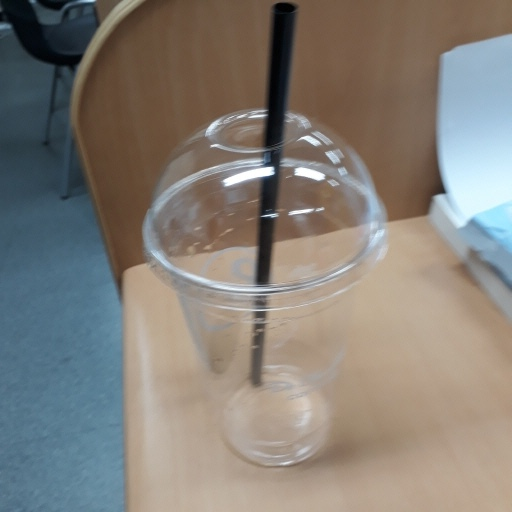Plastic_2: (139, 3, 391, 466)
